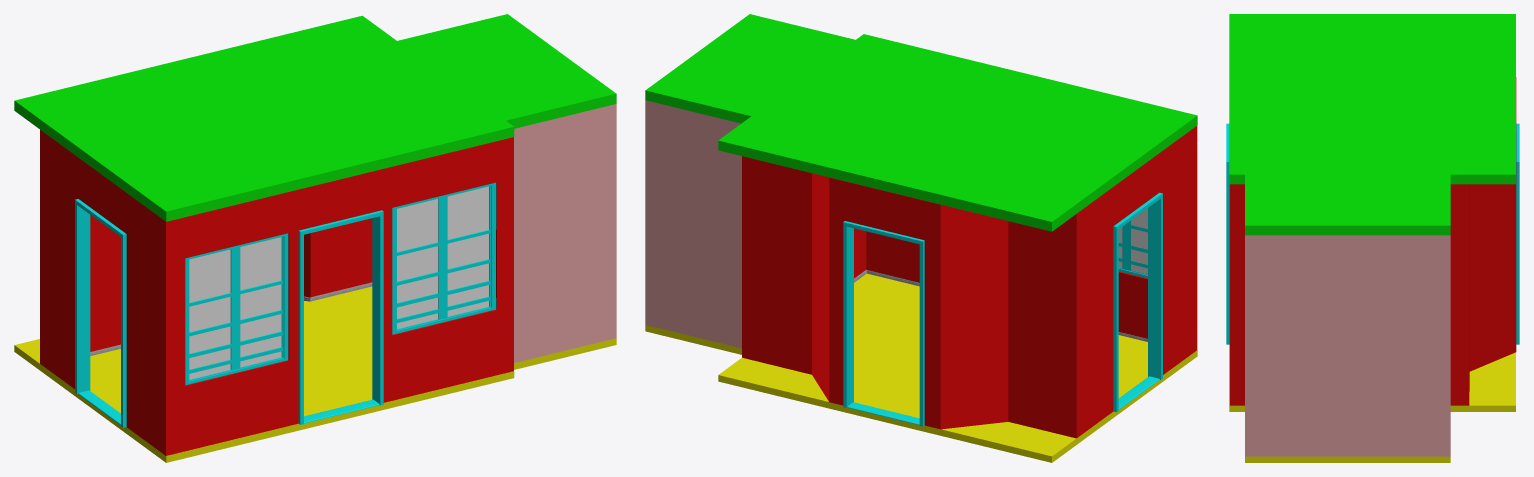
Rendered from FloorPlan517_physics.fbx.
3 renders of one model, left to right at view 1: azimuth 30°, elevation 25°; view 2: azimuth 150°, elevation 25°; view 3: azimuth 270°, elevation 25°, orthographic. The views are drawn at different scales.
Parts seen in each view (by area): view 1: FP517:Walls_1, FP517:Ceiling_1, FP517:Walls_2, FP517:Floor_1, FP517:Ceiling_2, FP517:WindowPane_1, FP517:WindowPane_2, FP517:WindowFrame_1, FP517:WindowFrame_2, FP517:DoorFrame_4, FP517:DoorFrame_1, FP517:Floor_2; view 2: FP517:Walls_1, FP517:Ceiling_1, FP517:Walls_2, FP517:Floor_1, FP517:Ceiling_2, FP517:DoorFrame_4, FP517:DoorFrame_3, FP517:WindowPane_1, FP517:WindowFrame_1, FP517:Floor_2; view 3: FP517:Ceiling_1, FP517:Walls_2, FP517:Walls_1, FP517:Ceiling_2, FP517:Floor_1, FP517:Floor_2, FP517:DoorFrame_3, FP517:DoorFrame_1.
Part boxes in pixels (bbox=[...]): FP517:Walls_1: bbox=[40, 130, 513, 455]; FP517:Ceiling_1: bbox=[14, 15, 514, 221]; FP517:Walls_2: bbox=[514, 104, 616, 362]; FP517:Floor_1: bbox=[14, 286, 514, 462]; FP517:Ceiling_2: bbox=[397, 14, 616, 128]; FP517:WindowPane_1: bbox=[189, 237, 281, 379]; FP517:WindowPane_2: bbox=[397, 186, 488, 328]; FP517:WindowFrame_1: bbox=[185, 233, 288, 385]; FP517:WindowFrame_2: bbox=[392, 182, 496, 334]; FP517:DoorFrame_4: bbox=[75, 199, 126, 427]; FP517:DoorFrame_1: bbox=[298, 210, 383, 424]; FP517:Floor_2: bbox=[514, 338, 616, 369]; FP517:Walls_1: bbox=[742, 126, 1197, 438]; FP517:Ceiling_1: bbox=[718, 34, 1197, 231]; FP517:Walls_2: bbox=[645, 100, 741, 348]; FP517:Floor_1: bbox=[718, 273, 1197, 462]; FP517:Ceiling_2: bbox=[645, 14, 855, 123]; FP517:DoorFrame_4: bbox=[1113, 192, 1162, 412]; FP517:DoorFrame_3: bbox=[843, 221, 924, 426]; FP517:WindowPane_1: bbox=[1118, 208, 1147, 274]; FP517:WindowFrame_1: bbox=[1118, 220, 1147, 278]; FP517:Floor_2: bbox=[645, 325, 741, 354]; FP517:Ceiling_1: bbox=[1229, 14, 1515, 184]; FP517:Walls_2: bbox=[1245, 235, 1450, 456]; FP517:Walls_1: bbox=[1229, 77, 1516, 405]; FP517:Ceiling_2: bbox=[1245, 174, 1450, 235]; FP517:Floor_1: bbox=[1229, 345, 1515, 411]; FP517:Floor_2: bbox=[1245, 456, 1450, 462]; FP517:DoorFrame_3: bbox=[1516, 123, 1519, 344]; FP517:DoorFrame_1: bbox=[1226, 123, 1229, 344].
Size of the model in its own units: 516 by 268 by 300.
